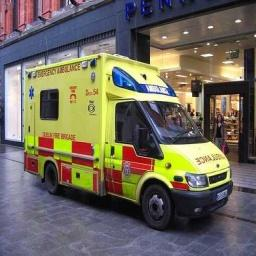ambulance: (24, 54, 231, 229)
